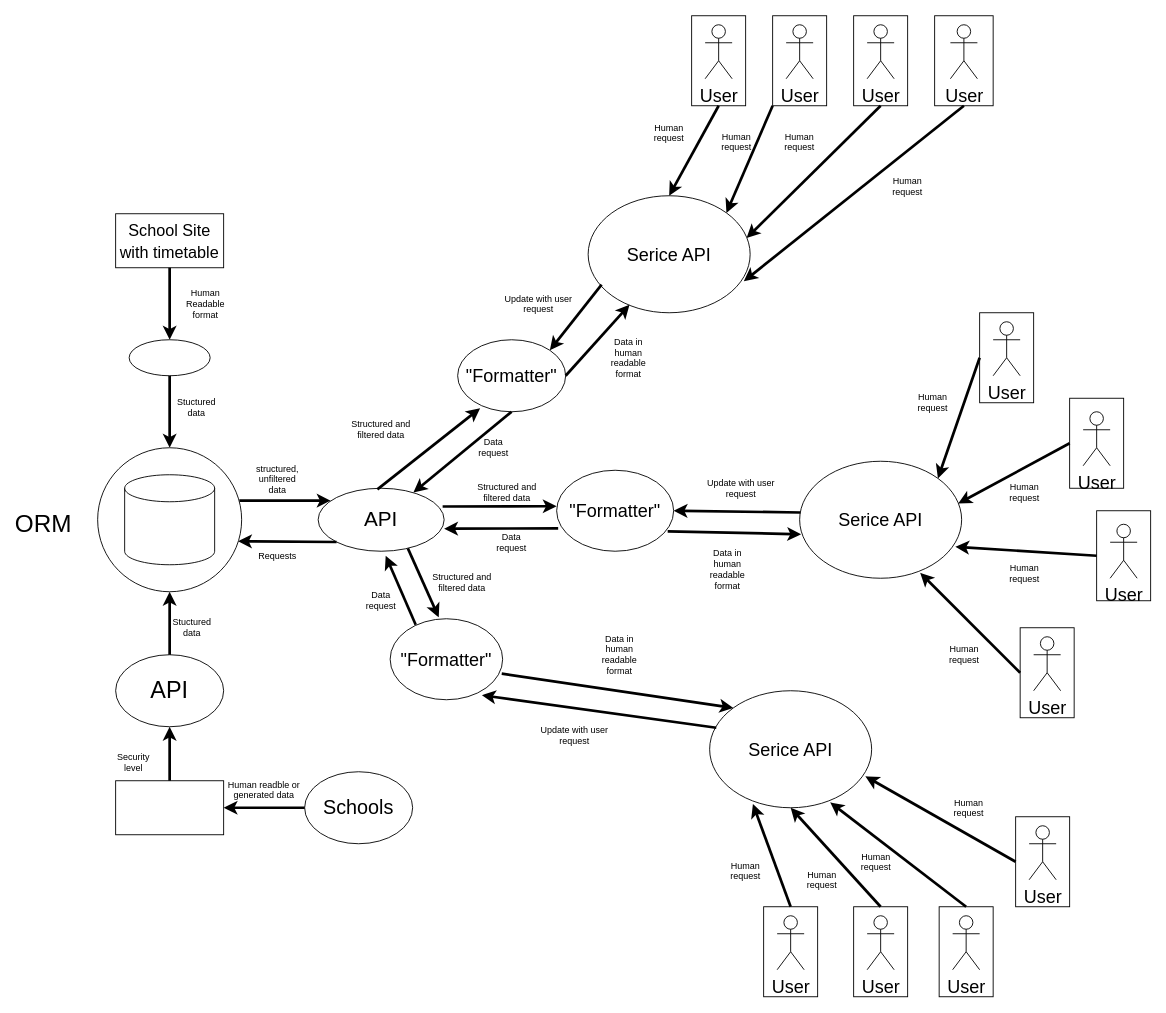
The diagram is 1166 pixels wide and 1013 high, and some of its shapes have lost their labels. Each missing label, with the centre of its shape:
"Database" goes at point (169, 519).
"Parsing" goes at point (169, 357).
"Web interface" goes at point (169, 807).
